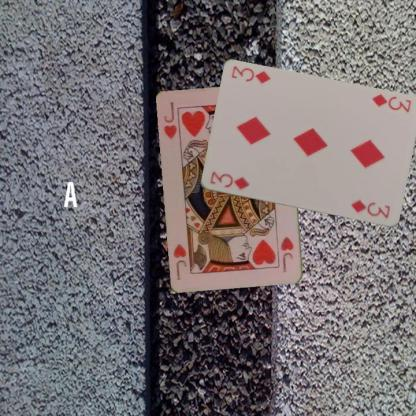3d: (369, 91, 412, 114), (208, 169, 250, 191)
Jh: (161, 100, 179, 140), (278, 234, 295, 274)
